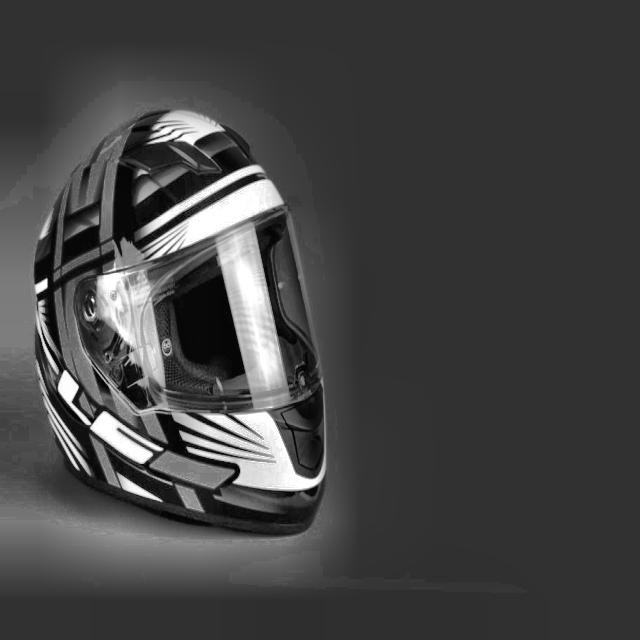Helmet: (19, 108, 328, 541)
